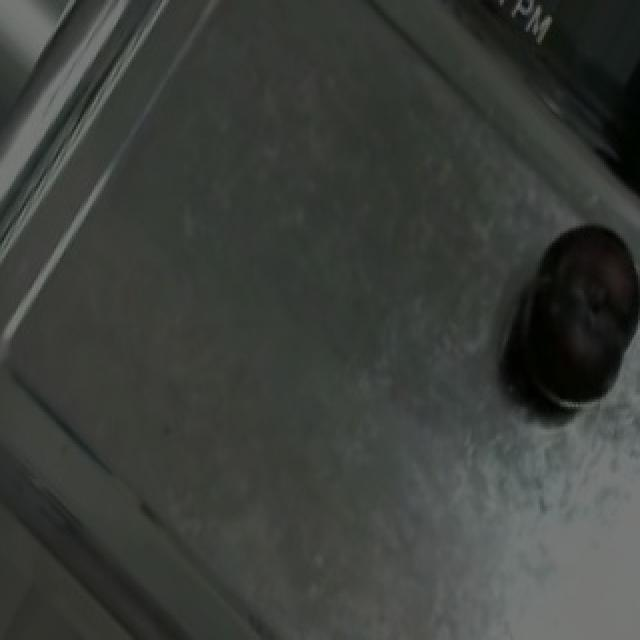Fruit: (508, 203, 640, 424)
